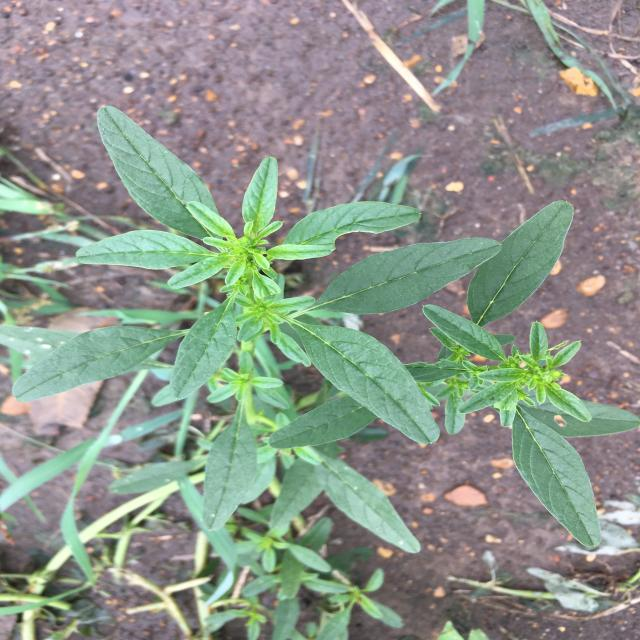Waterhemp: (12, 107, 639, 639)
